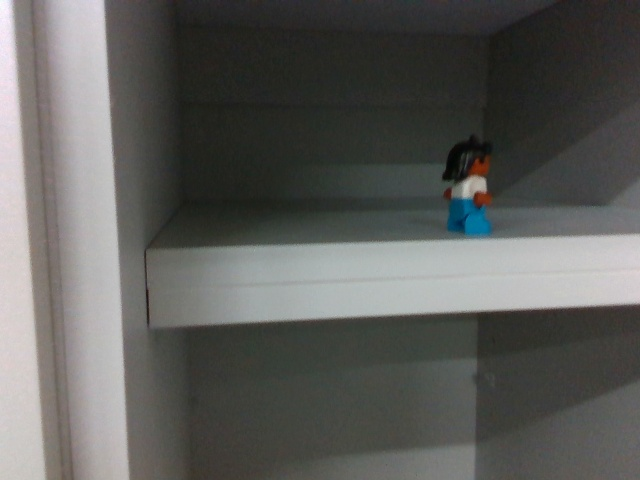people: (440, 138, 497, 238)
